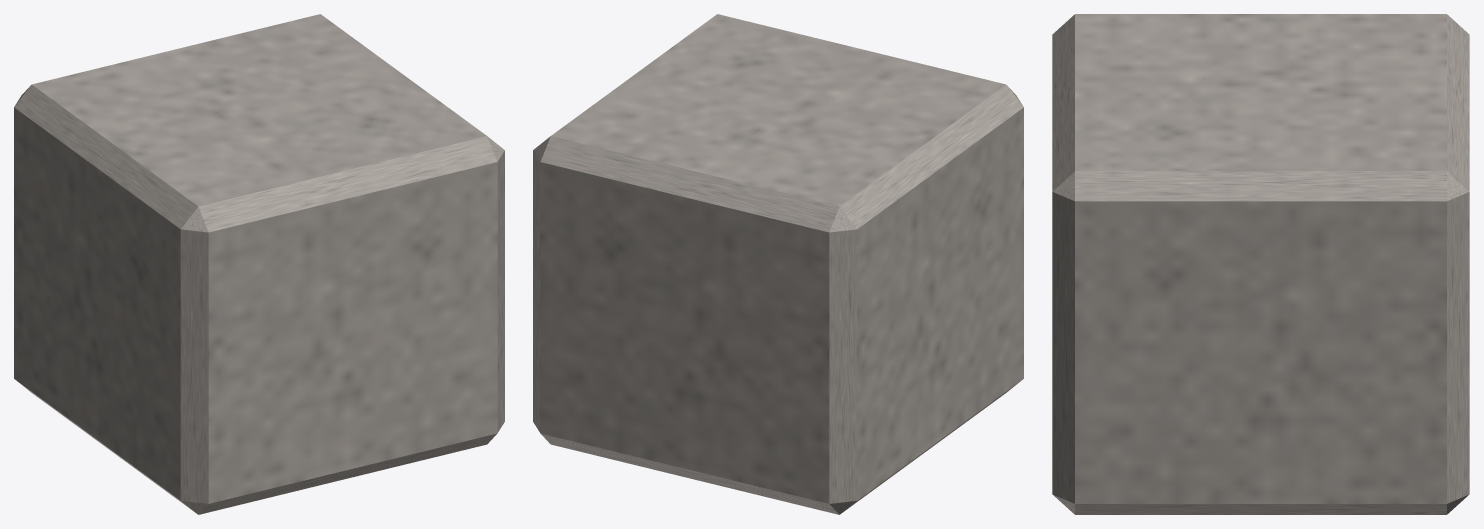
Rendered from Bordure_Coin_B.obj.
The picture shows the model from 3 angles, left to right: view 1: azimuth 30°, elevation 25°; view 2: azimuth 150°, elevation 25°; view 3: azimuth 270°, elevation 25°; orthographic projection. The views are drawn at different scales.
Parts seen in each view (by area): view 1: Bordure_Coin_B; view 2: Bordure_Coin_B; view 3: Bordure_Coin_B.
Boxes of the visible parts, x1,y1,x2,y2 form: Bordure_Coin_B: [14, 14, 504, 514]; Bordure_Coin_B: [533, 14, 1023, 514]; Bordure_Coin_B: [1052, 14, 1469, 514].
Bounding box in the file's own units: 1.1 × 1 × 1.1.
1 material, 1 textured.
